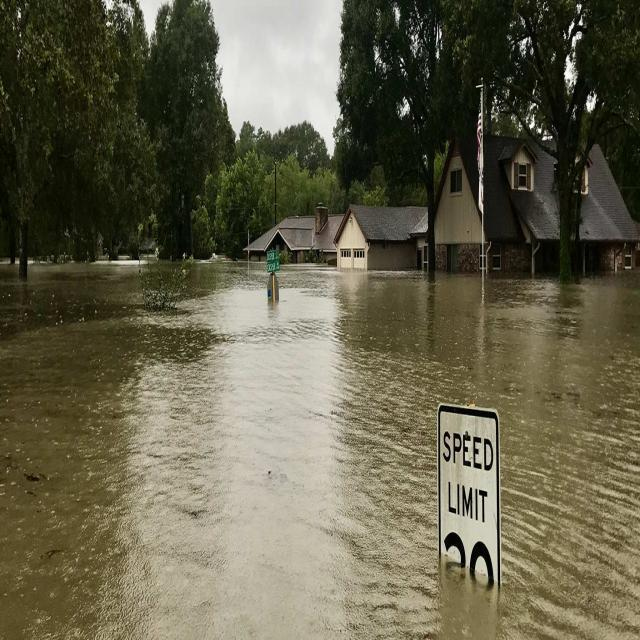flood: (0, 255, 640, 640)
house: (332, 203, 416, 268), (434, 136, 482, 248), (248, 216, 314, 264)
